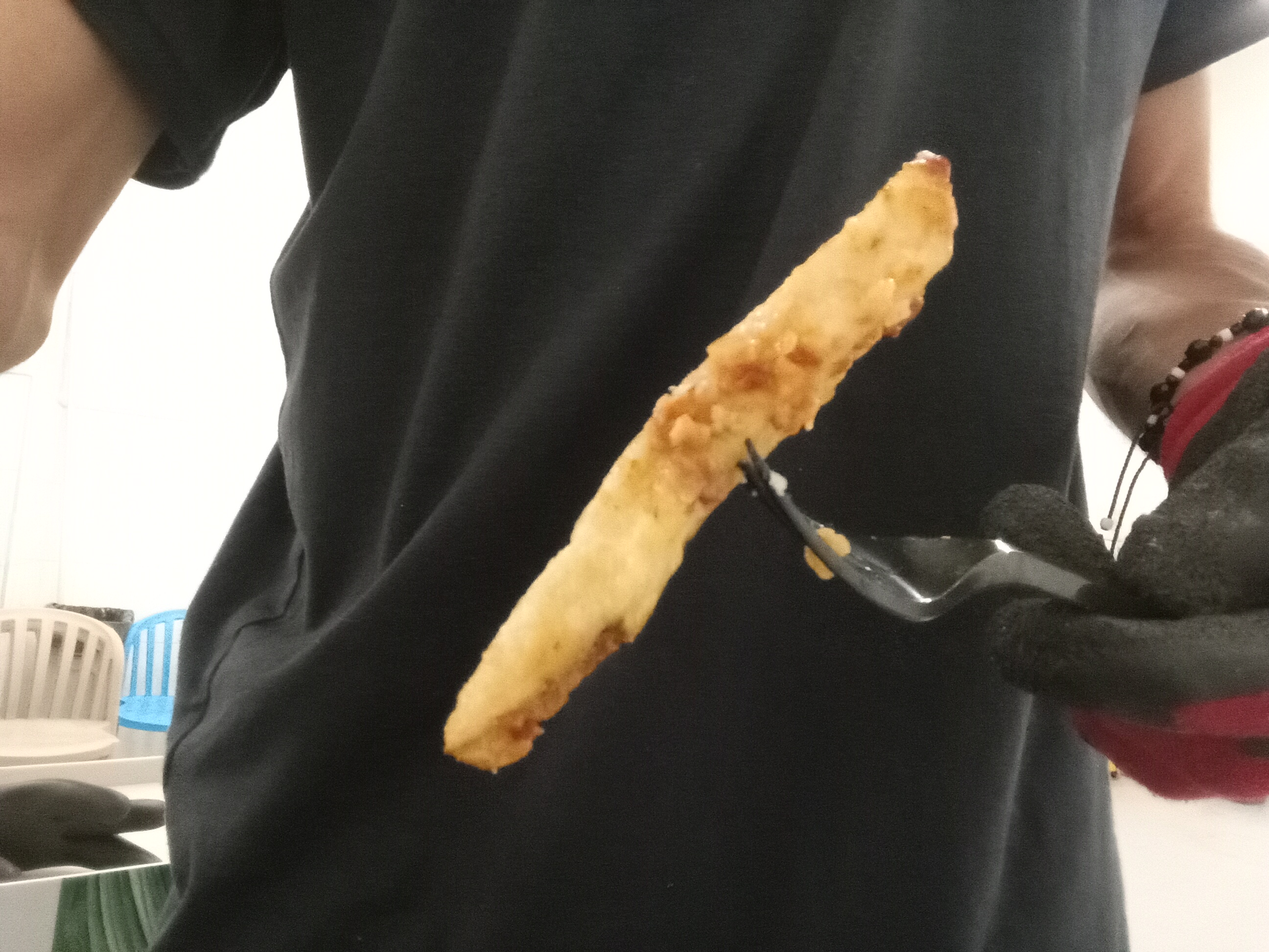Organico: (443, 150, 956, 767)
